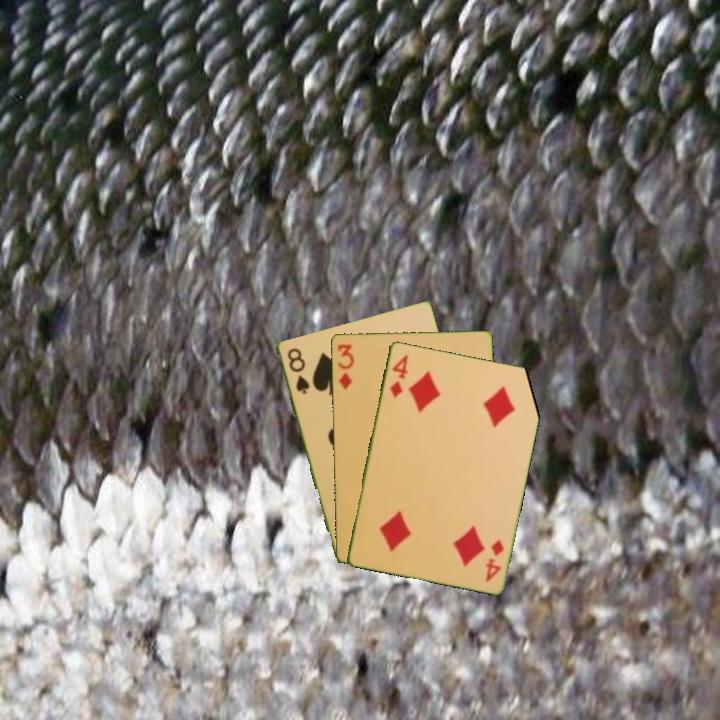3d: (334, 341, 356, 392)
4d: (386, 351, 411, 401), (482, 536, 507, 585)
8s: (283, 344, 312, 397)
